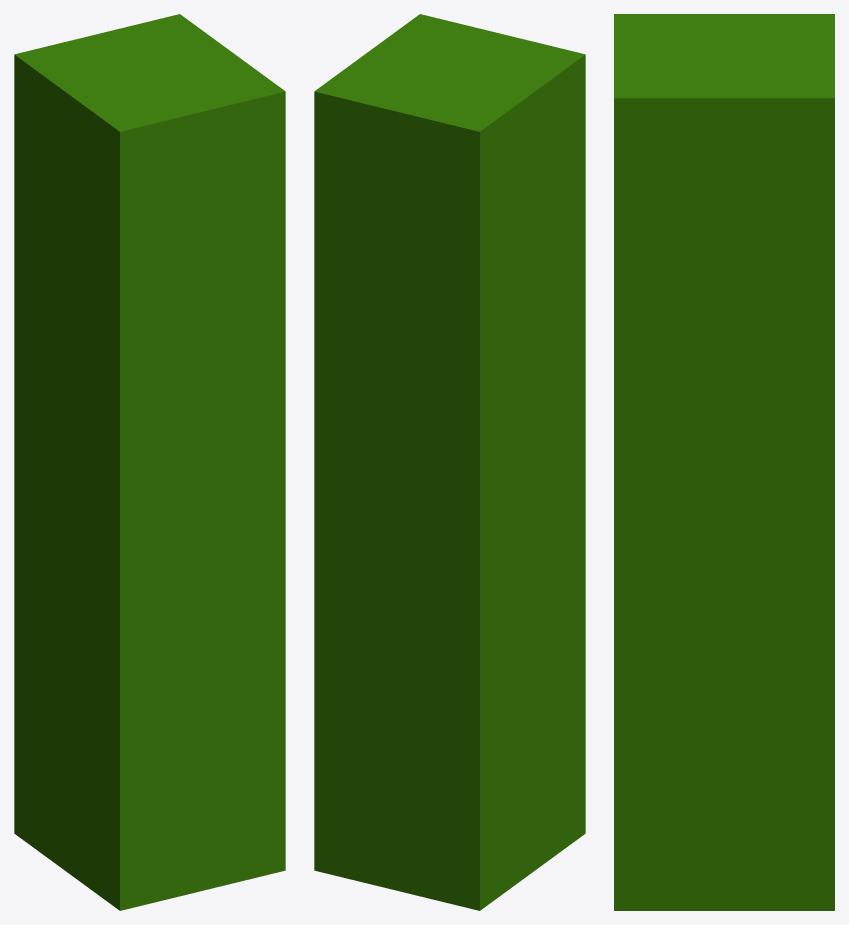
Rendered from block_tall.DAE.
The picture shows the model from 3 angles, left to right: view 1: azimuth 30°, elevation 25°; view 2: azimuth 150°, elevation 25°; view 3: azimuth 270°, elevation 25°; orthographic projection. The views are drawn at different scales.
Parts seen in each view (by area): view 1: bounds; view 2: bounds; view 3: bounds.
Boxes of the visible parts, box(x1,y1,x2,y2) form: bounds: box(14, 14, 285, 910); bounds: box(314, 14, 585, 910); bounds: box(614, 14, 834, 910).
Size of the model in its own units: 1.31 by 1.45 by 5.87.
